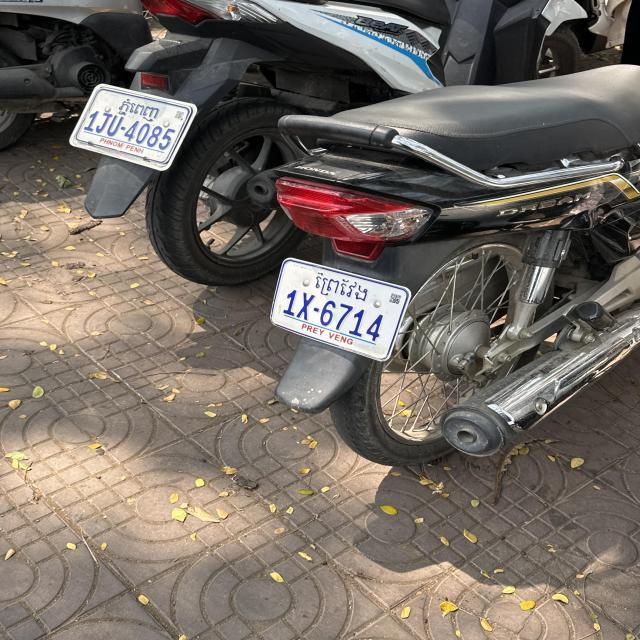Prey_Veng: (313, 270, 371, 302)
